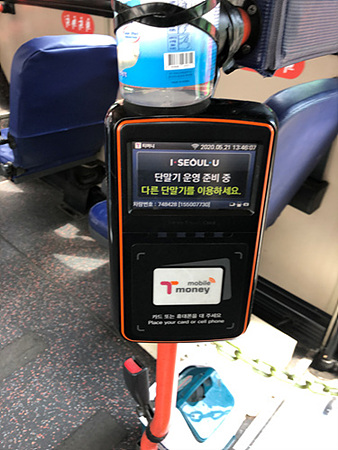terminal: (103, 99, 270, 338)
